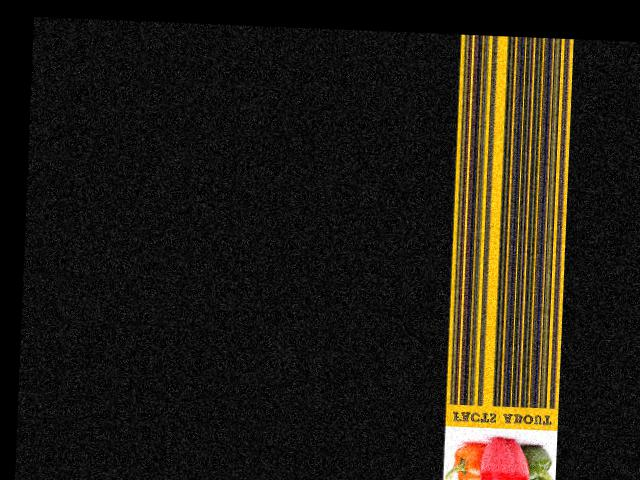bell_pepper: (525, 437, 555, 480)
